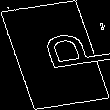P_W: (11, 31, 99, 79)
